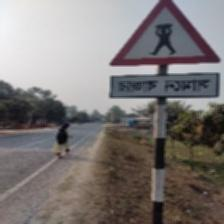Market-in-front: (108, 0, 222, 103)
